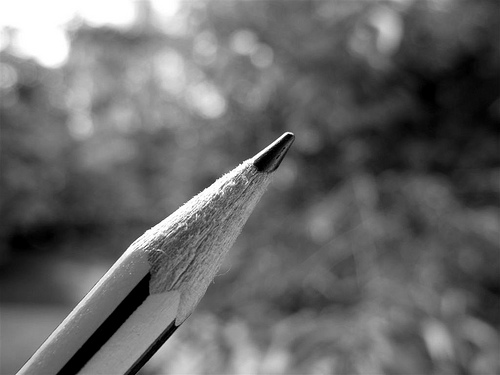pen_tip: (128, 125, 295, 343)
